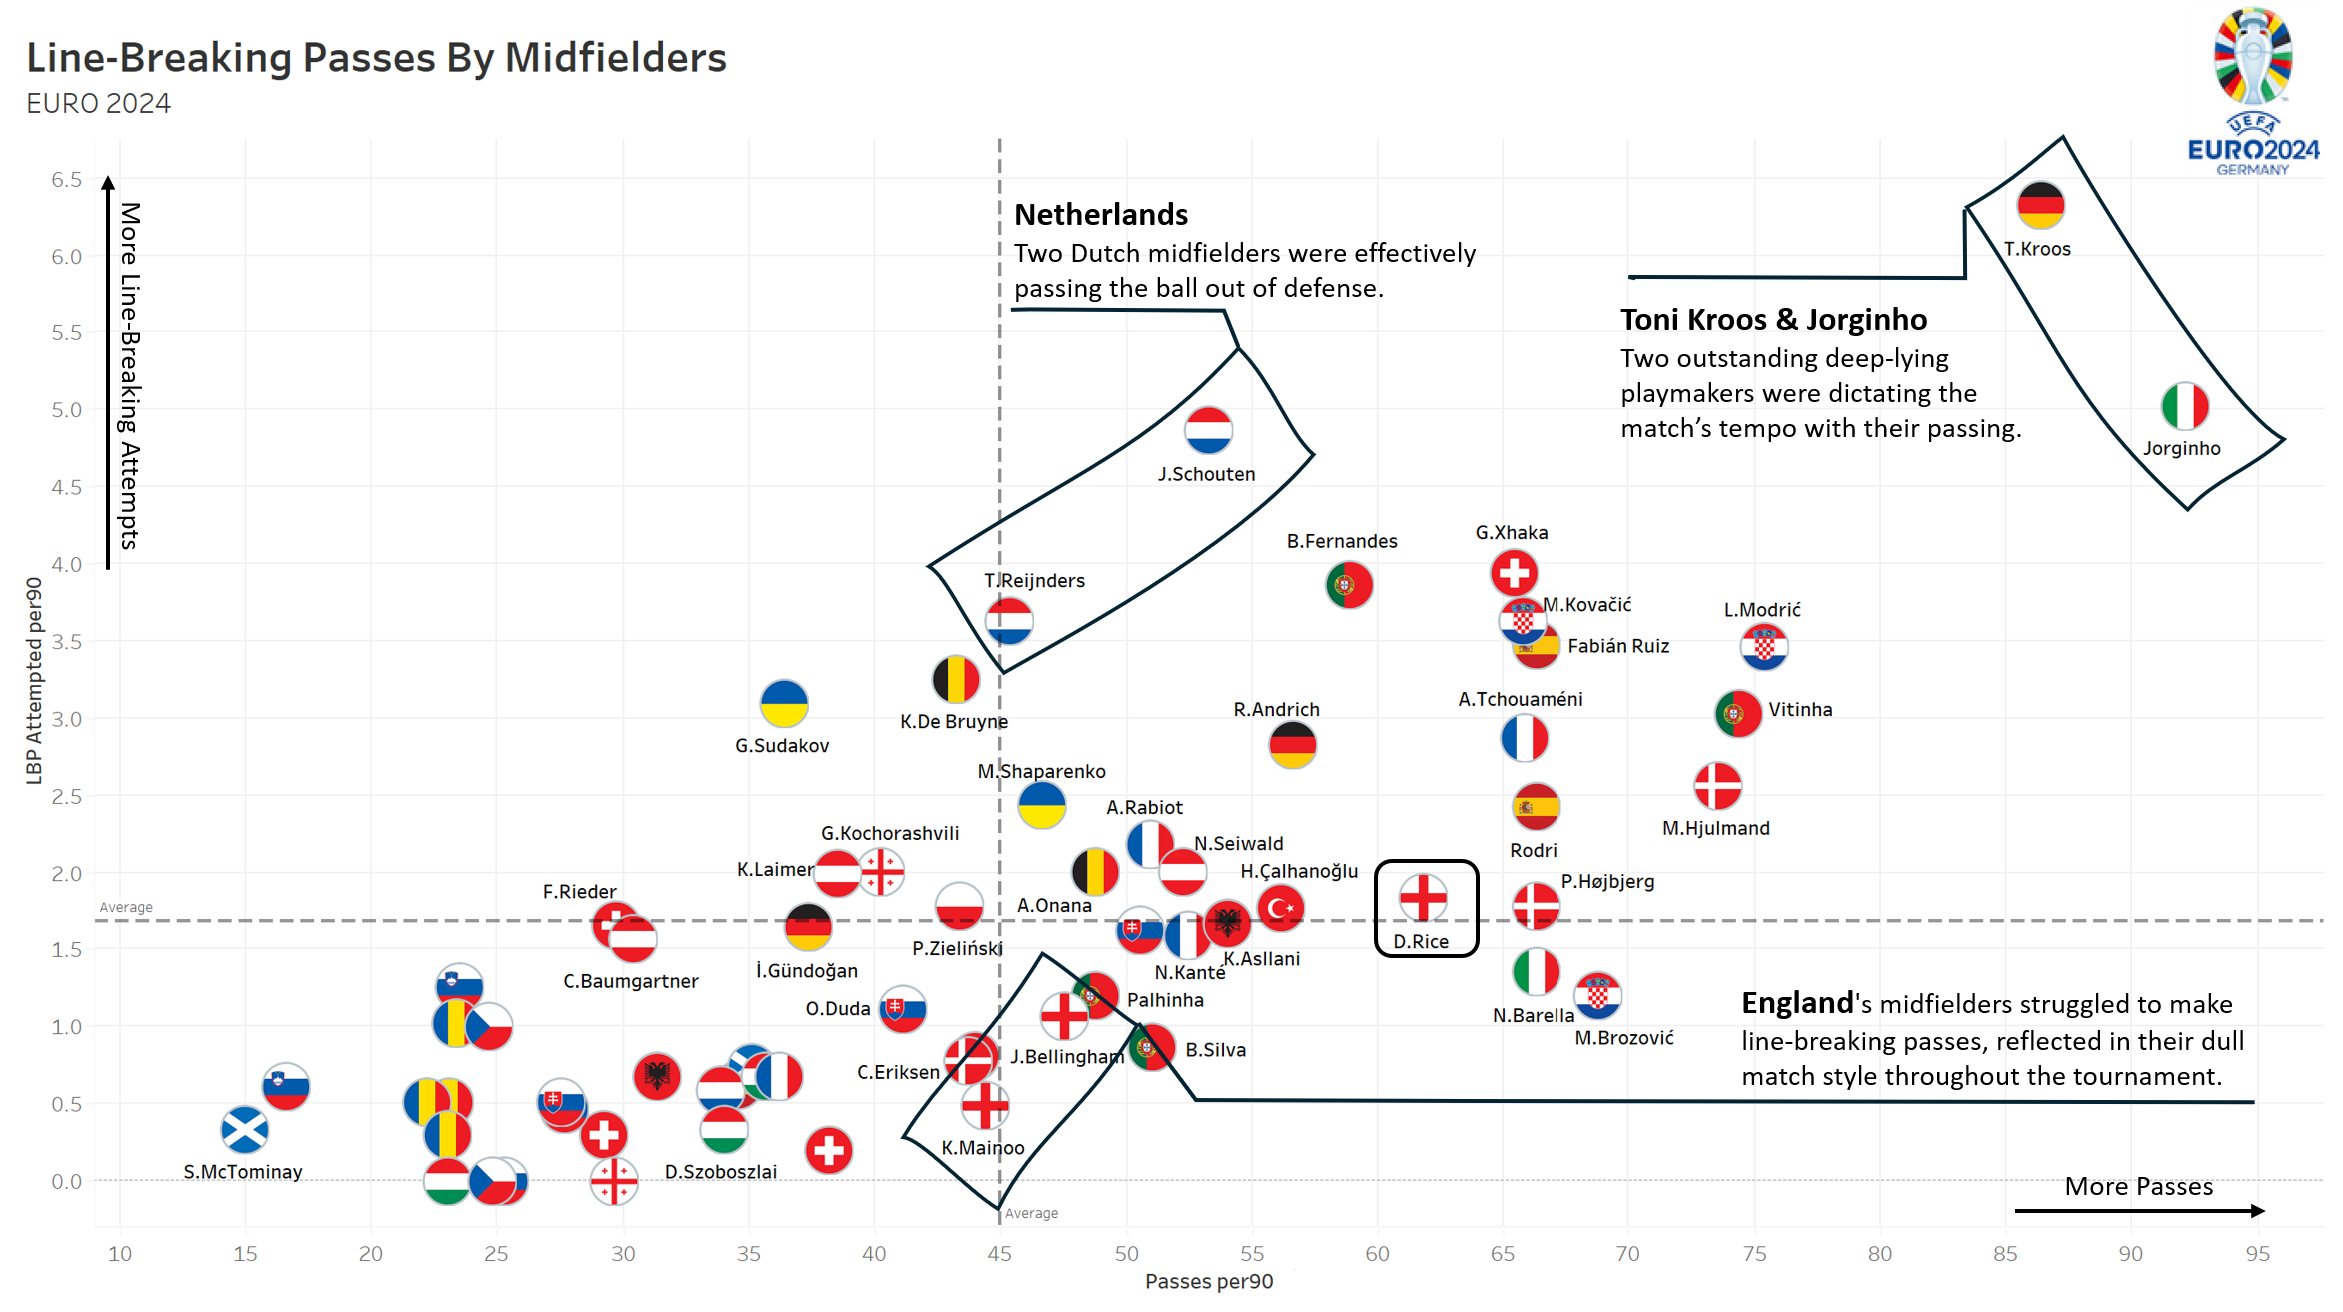

This screenshot's page, from the dashboard's own definition file:
{"tool":"tableau","page":{"name":"Dashboard 1","canvas":[1366,768],"ordinal":0},"visuals":[{"type":"image","param":"C:/Users/LINWEI~1/AppData/Local/Temp/TableauTemp/01eiglb0pr0fv717hg9so1x1lwef/Sh","box":[1274,6,85,98]},{"type":"worksheet","title":"Mid","mark":"Shape","rows":["LBP Attempted per90"],"cols":["Calculation_2418714495562670080"],"box":[8,8,1350,752]}]}

Visuals, with their boxes in screenshot pixels (x1, y1, x2, y2), scaled from the page's 1366x768 canvas onto the 2343x1312 screenshot:
image: region(2185, 10, 2331, 178)
"Mid" worksheet (Shape marks): region(14, 14, 2329, 1298)
